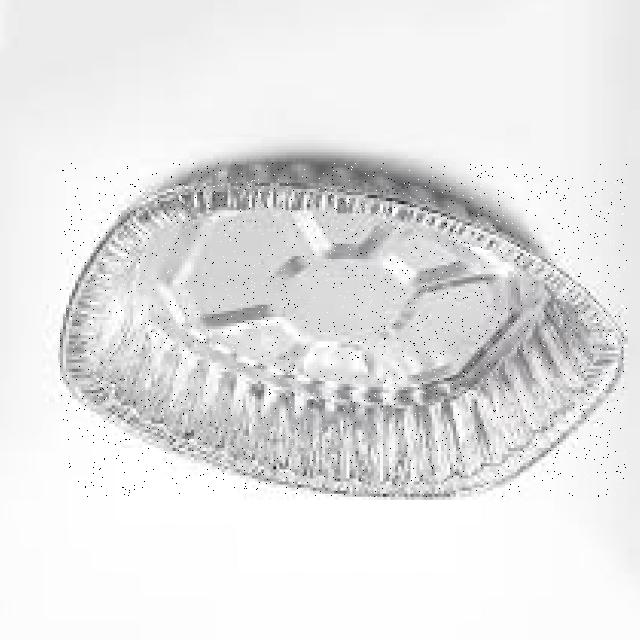metal: (61, 163, 627, 497)
